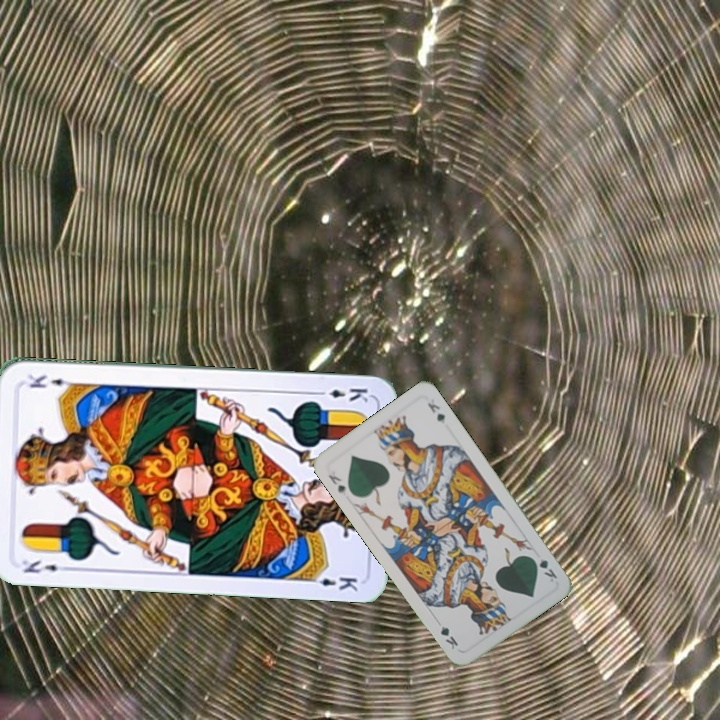EK: (312, 384, 371, 404), (18, 556, 72, 576)
GK: (527, 552, 560, 585), (324, 470, 350, 498)
